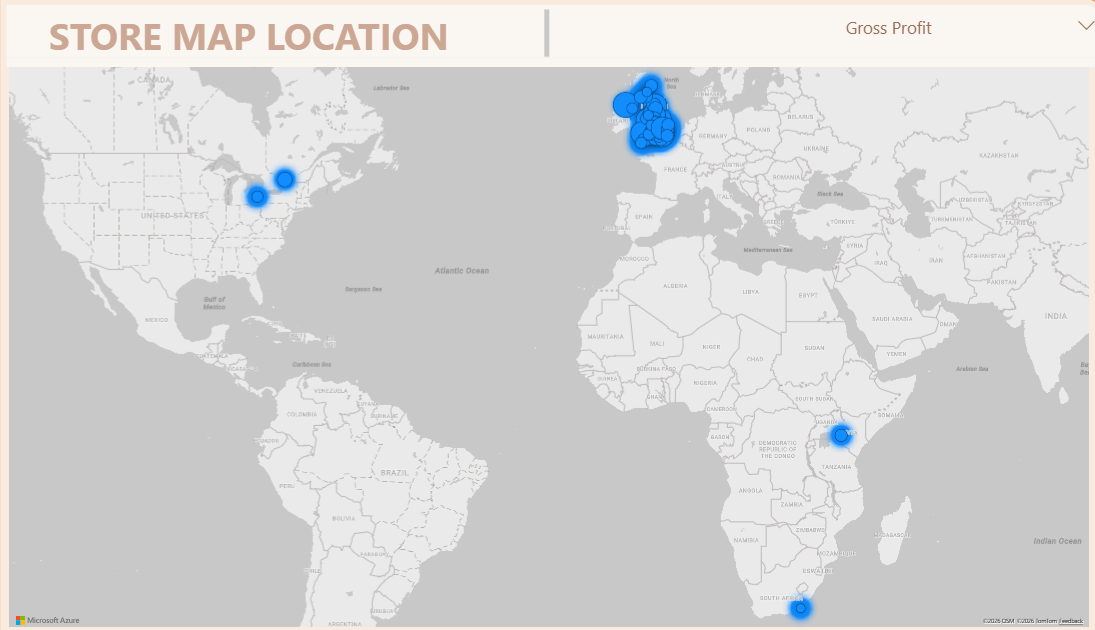

Layout of this report page (visuals, bound fields, positions):
{"tool":"powerbi","page":{"name":"Map_page","canvas":[1920,1080],"ordinal":3},"visuals":[{"type":"azureMap","fields":{"Category":["dim_store.city"],"Size":["Measure.Total_daily_gross_profit"]},"box":[128.8,121.7,1751.3,923.3],"z":0},{"type":"slicer","fields":{"Values":["Daliy_store_parameter.Daliy_store_parameter"]},"box":[1465,45,417.5,77.5],"z":1000},{"type":"actionButton","box":[17.1,75.7,95.7,94.3],"z":2000},{"type":"actionButton","box":[17.1,190,95.7,94.3],"z":3000},{"type":"actionButton","box":[17.1,311.4,95.7,94.3],"z":4000},{"type":"actionButton","box":[17.1,430,95.7,94.3],"z":5000},{"type":"actionButton","box":[17.5,930,95.7,94.3],"z":6000},{"type":"actionButton","box":[18.6,807.1,95.7,94.3],"z":7000},{"type":"textbox","box":[207.6,45.3,796.9,76.3],"z":8000}]}

Visuals, with their boxes in screenshot pixels (x1, y1, x2, y2), scaled from the page's 1920x1080 canvas onto the 1095x630 screenshot:
azureMap - dim_store.city x Measure.Total_daily_gross_profit: BBox(73, 71, 1072, 610)
slicer - Daliy_store_parameter.Daliy_store_parameter: BBox(836, 26, 1074, 71)
actionButton: BBox(10, 44, 64, 99)
actionButton: BBox(10, 111, 64, 166)
actionButton: BBox(10, 182, 64, 237)
actionButton: BBox(10, 251, 64, 306)
actionButton: BBox(10, 542, 65, 598)
actionButton: BBox(11, 471, 65, 526)
textbox: BBox(118, 26, 573, 71)
